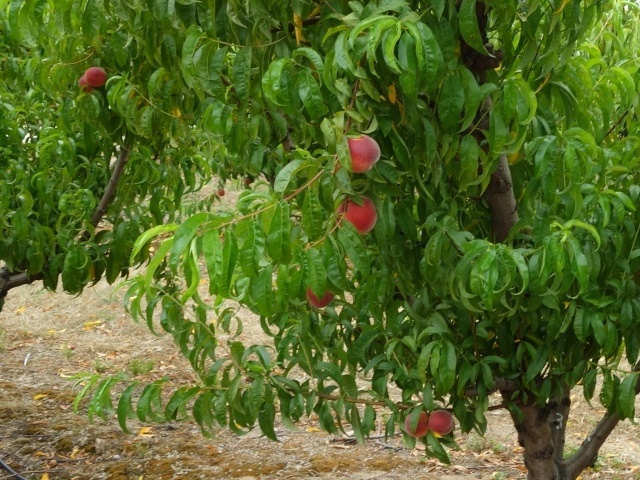peach: (332, 191, 380, 238), (337, 132, 384, 174), (424, 404, 457, 438), (401, 406, 432, 439), (304, 284, 336, 312), (82, 64, 110, 91), (72, 74, 99, 99)
